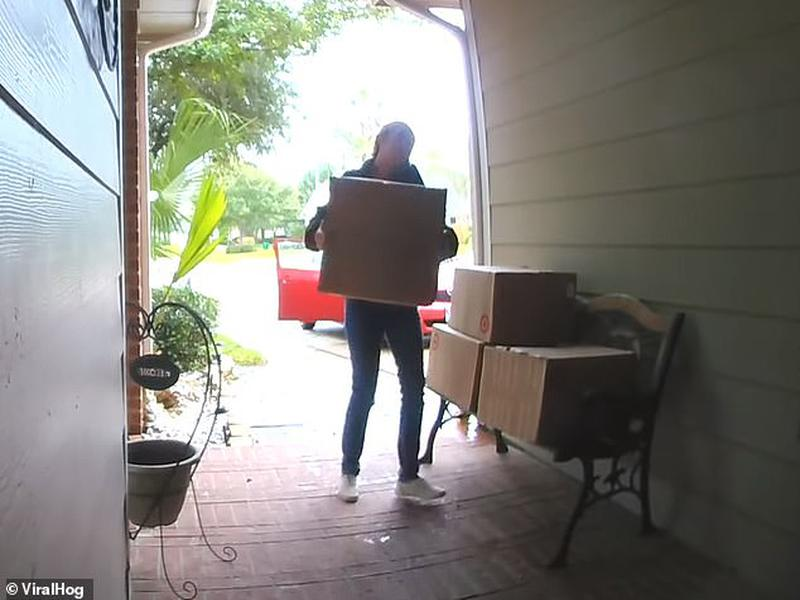package: (315, 171, 451, 312), (477, 339, 642, 450), (445, 262, 584, 347)
